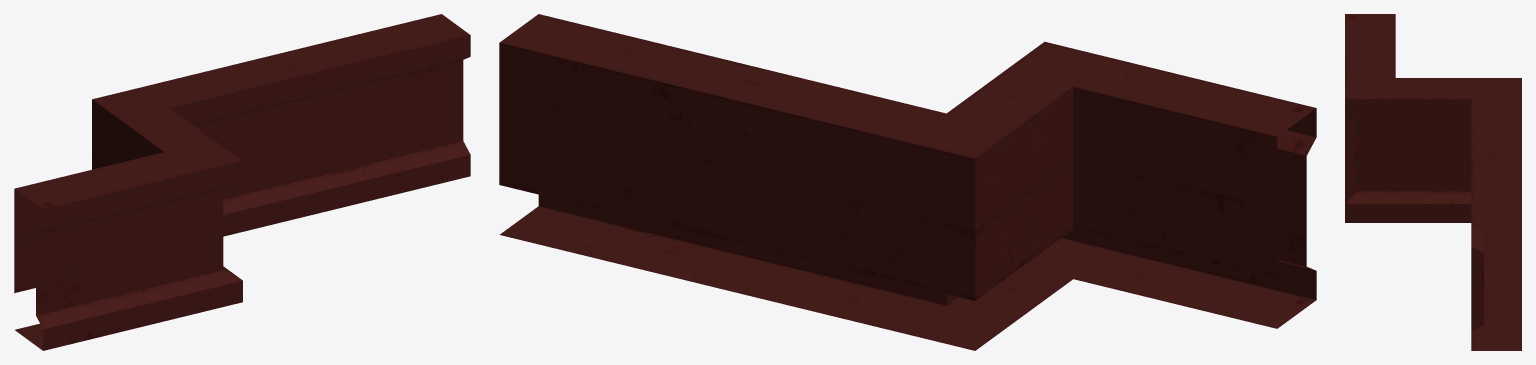
Rendered from Cornice_Small_Metal_90Angle_L.gltf.
3 views of the same model, side by side, from view 1: azimuth 30°, elevation 25°; view 2: azimuth 150°, elevation 25°; view 3: azimuth 270°, elevation 25° (orthographic). The views are drawn at different scales.
Visible parts, largest first — view 1: Cornice_Small_Metal_90Angle_L; view 2: Cornice_Small_Metal_90Angle_L; view 3: Cornice_Small_Metal_90Angle_L.
Part boxes in pixels (x1=…): Cornice_Small_Metal_90Angle_L: x1=14, y1=14, x2=470, y2=350; Cornice_Small_Metal_90Angle_L: x1=499, y1=14, x2=1316, y2=350; Cornice_Small_Metal_90Angle_L: x1=1345, y1=14, x2=1521, y2=350.
Size of the model in its own units: 2 by 0.5403 by 0.7.
Materials: 1 (1 with a texture image).
